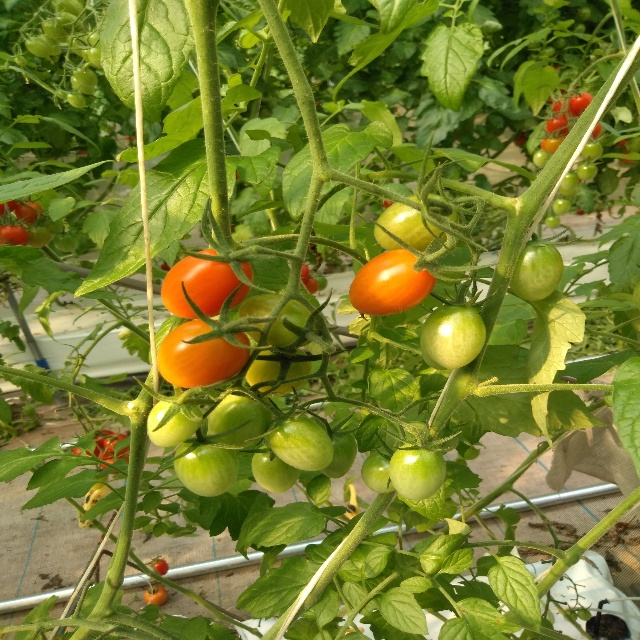l_fully_ripened: (162, 248, 253, 319), (0, 224, 29, 246)
l_green: (373, 194, 460, 253), (236, 294, 321, 350), (200, 390, 274, 448), (423, 303, 487, 369), (173, 436, 238, 497), (266, 414, 334, 472), (509, 239, 565, 302), (243, 346, 313, 395), (389, 443, 448, 500), (147, 397, 203, 449), (252, 443, 303, 493), (319, 428, 357, 479), (361, 450, 396, 494), (26, 225, 51, 249), (432, 430, 459, 452), (71, 73, 96, 96), (25, 37, 51, 58), (72, 66, 98, 87), (67, 92, 86, 108)
l_half_ripened: (156, 319, 251, 390), (348, 248, 438, 316)
